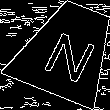N_NE: (36, 19, 100, 81)
